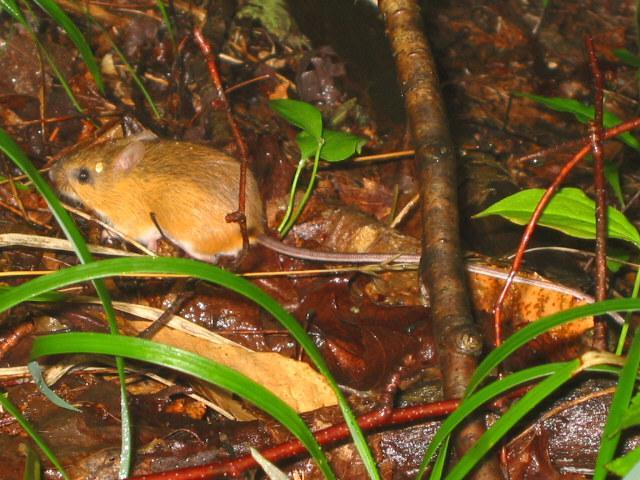rat: (49, 130, 624, 325)
